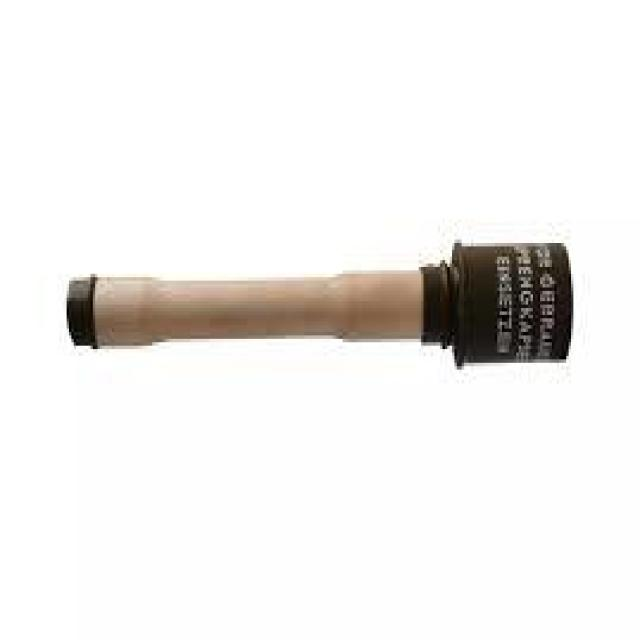grenade: (66, 211, 603, 378)
